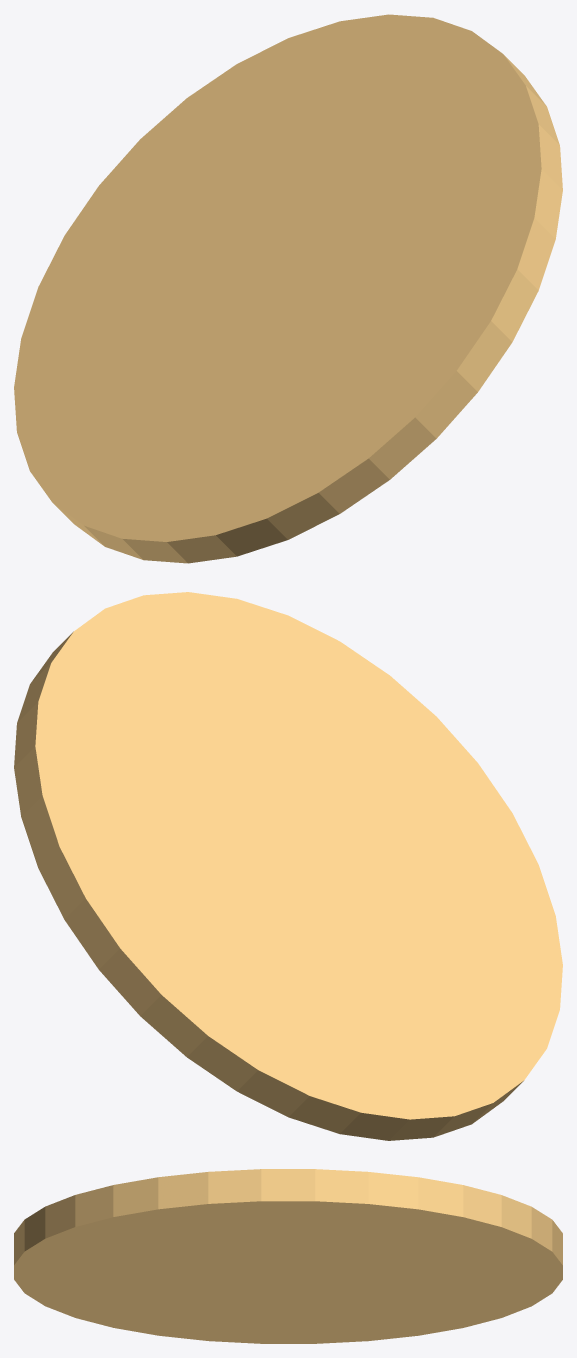
The model's file is nashe_Pioneer_p3dx_visible_vis_16.dae.
3 views of the same model, one above another, from view 1: azimuth 30°, elevation 25°; view 2: azimuth 150°, elevation 25°; view 3: azimuth 270°, elevation 25° (orthographic). The views are drawn at different scales.
Visible parts, largest first — view 1: Node_0x71c2098cfad0; view 2: Node_0x71c2098cfad0; view 3: Node_0x71c2098cfad0.
Part boxes in pixels (left/top/right/bottom): Node_0x71c2098cfad0: left=14, top=14, right=562, bottom=563; Node_0x71c2098cfad0: left=14, top=592, right=562, bottom=1140; Node_0x71c2098cfad0: left=14, top=1169, right=562, bottom=1343.
Size of the model in its own units: 0.0286 by 0.0245 by 0.0355.
